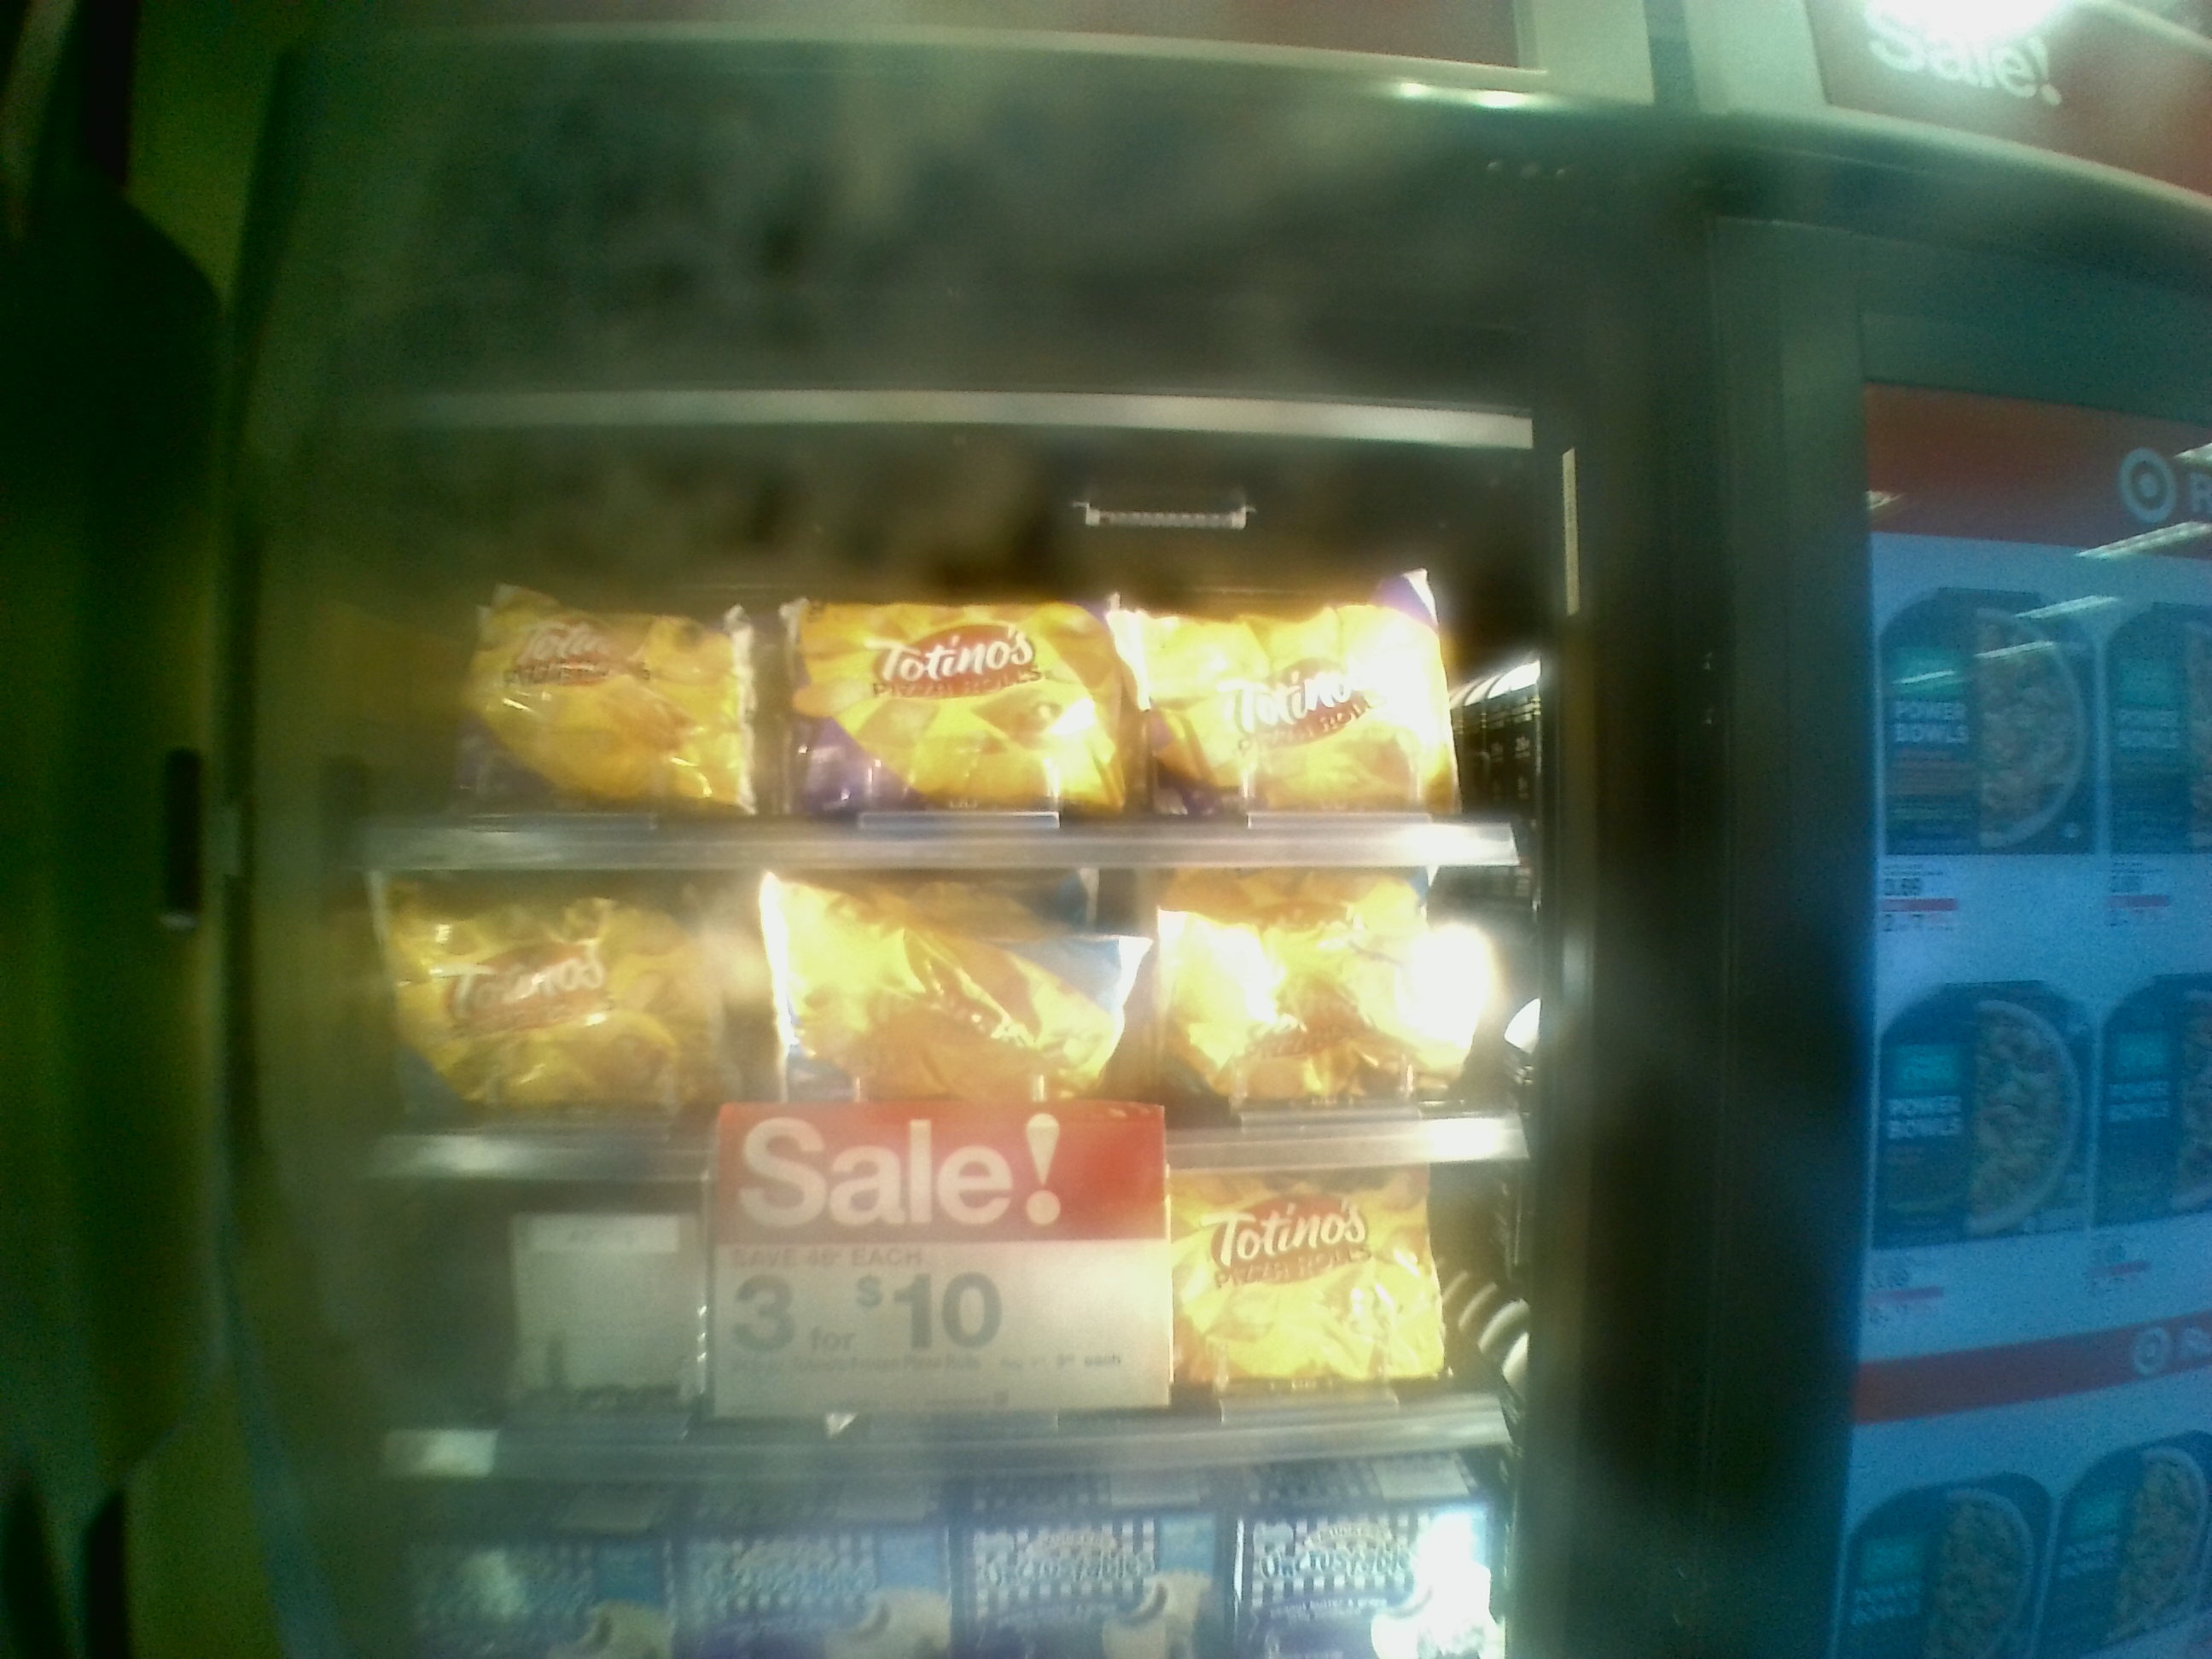shelf: (354, 538, 1529, 875), (324, 868, 1545, 1176), (312, 1169, 1531, 1471)
